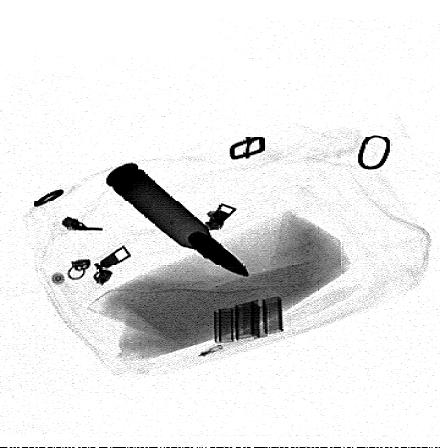Bullet: (103, 161, 253, 280)
